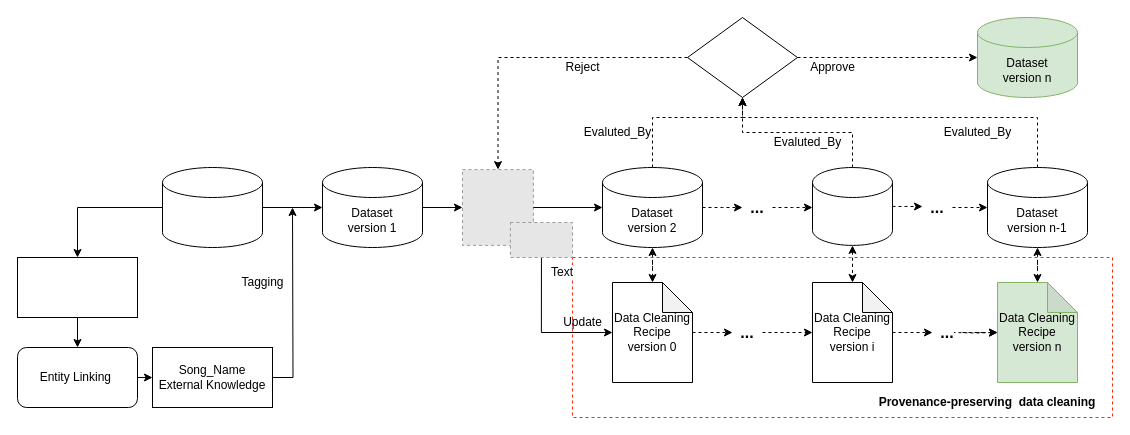
The diagram is 1130 pixels wide and 435 high, and some of its shapes have lost their labels. Grey dashed boxes stand in for pictures. Each missing label, with the centre of its shape:
Data Quality Metrics: (x=742, y=57)
Dataset version i: (x=852, y=205)
Dirty Dataset version 0: (x=212, y=207)
Mixed Information: (x=77, y=287)
